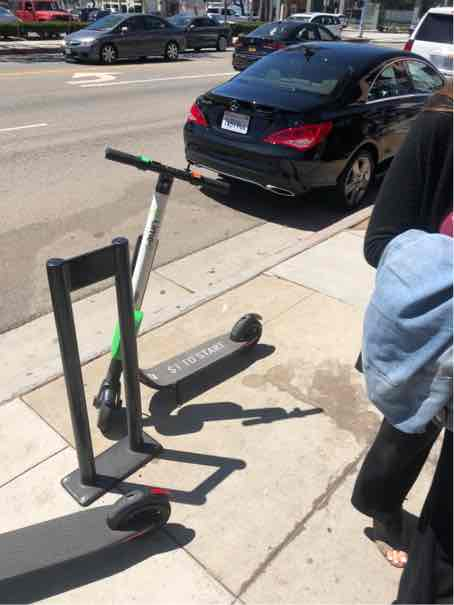scooter: (92, 135, 274, 445)
